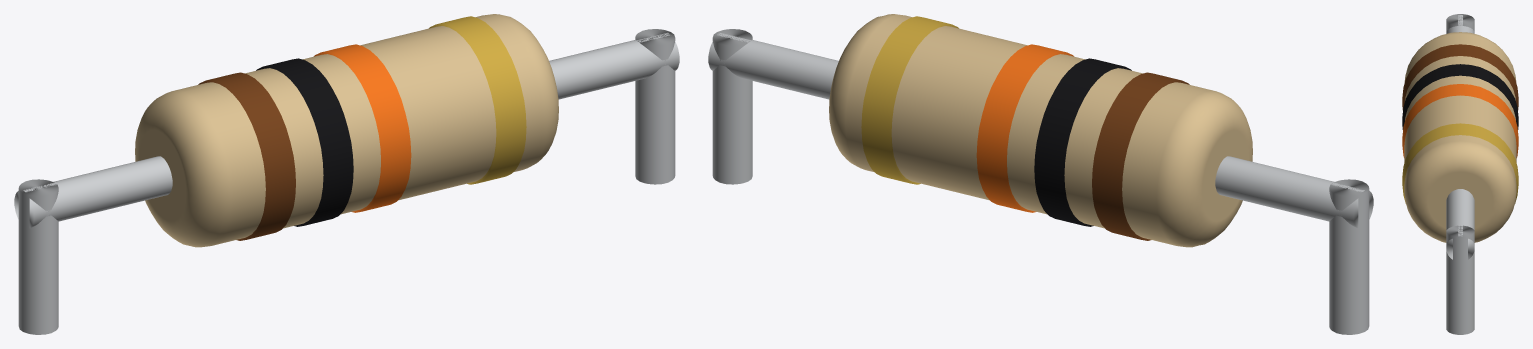
Rendered from axial_resistor.obj.
The picture shows the model from 3 angles, left to right: view 1: azimuth 30°, elevation 25°; view 2: azimuth 150°, elevation 25°; view 3: azimuth 270°, elevation 25°; orthographic projection. The views are drawn at different scales.
Visible parts, largest first — view 1: body, lead_2, lead_4, lead, band, band_4, band_2, band_3, lead_3; view 2: body, lead_2, lead, lead_4, band, band_4, band_2, band_3, lead_3; view 3: body, lead_4, band_4, band_3, band, band_2, lead_3, lead_2, lead.
Boxes of the visible parts, x1,y1,x2,y2 form: body: [135, 14, 558, 247]; lead_2: [18, 179, 58, 334]; lead_4: [635, 29, 675, 184]; lead: [14, 156, 172, 228]; band: [198, 72, 295, 240]; band_4: [429, 16, 526, 184]; band_2: [256, 58, 353, 226]; band_3: [314, 44, 411, 212]; lead_3: [549, 32, 679, 99]; body: [829, 14, 1252, 247]; lead_2: [1329, 179, 1369, 334]; lead: [1215, 156, 1373, 228]; lead_4: [712, 29, 752, 184]; band: [1092, 72, 1189, 240]; band_4: [861, 16, 958, 184]; band_2: [1034, 58, 1131, 226]; band_3: [976, 44, 1073, 212]; lead_3: [708, 33, 838, 99]; body: [1404, 32, 1516, 242]; lead_4: [1446, 225, 1474, 334]; band_4: [1402, 123, 1518, 203]; band_3: [1402, 84, 1518, 157]; band: [1402, 44, 1518, 109]; band_2: [1402, 64, 1518, 129]; lead_3: [1446, 189, 1474, 259]; lead_2: [1446, 14, 1474, 30]; lead: [1446, 15, 1474, 33].
Size of the model in its own units: 0.0113 by 0.00324 by 0.00248.
